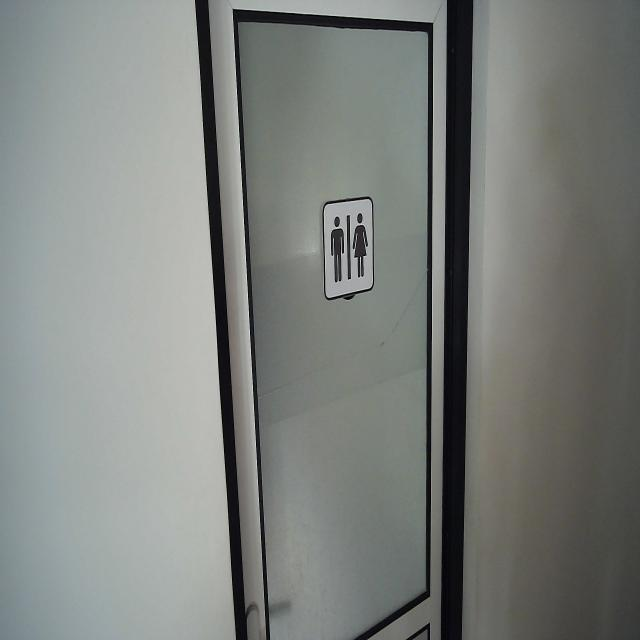restroom: (320, 194, 378, 305)
